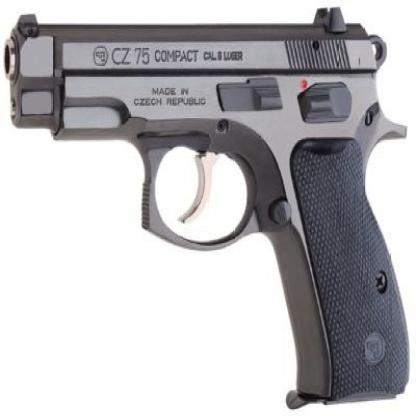gun: (6, 10, 405, 411)
